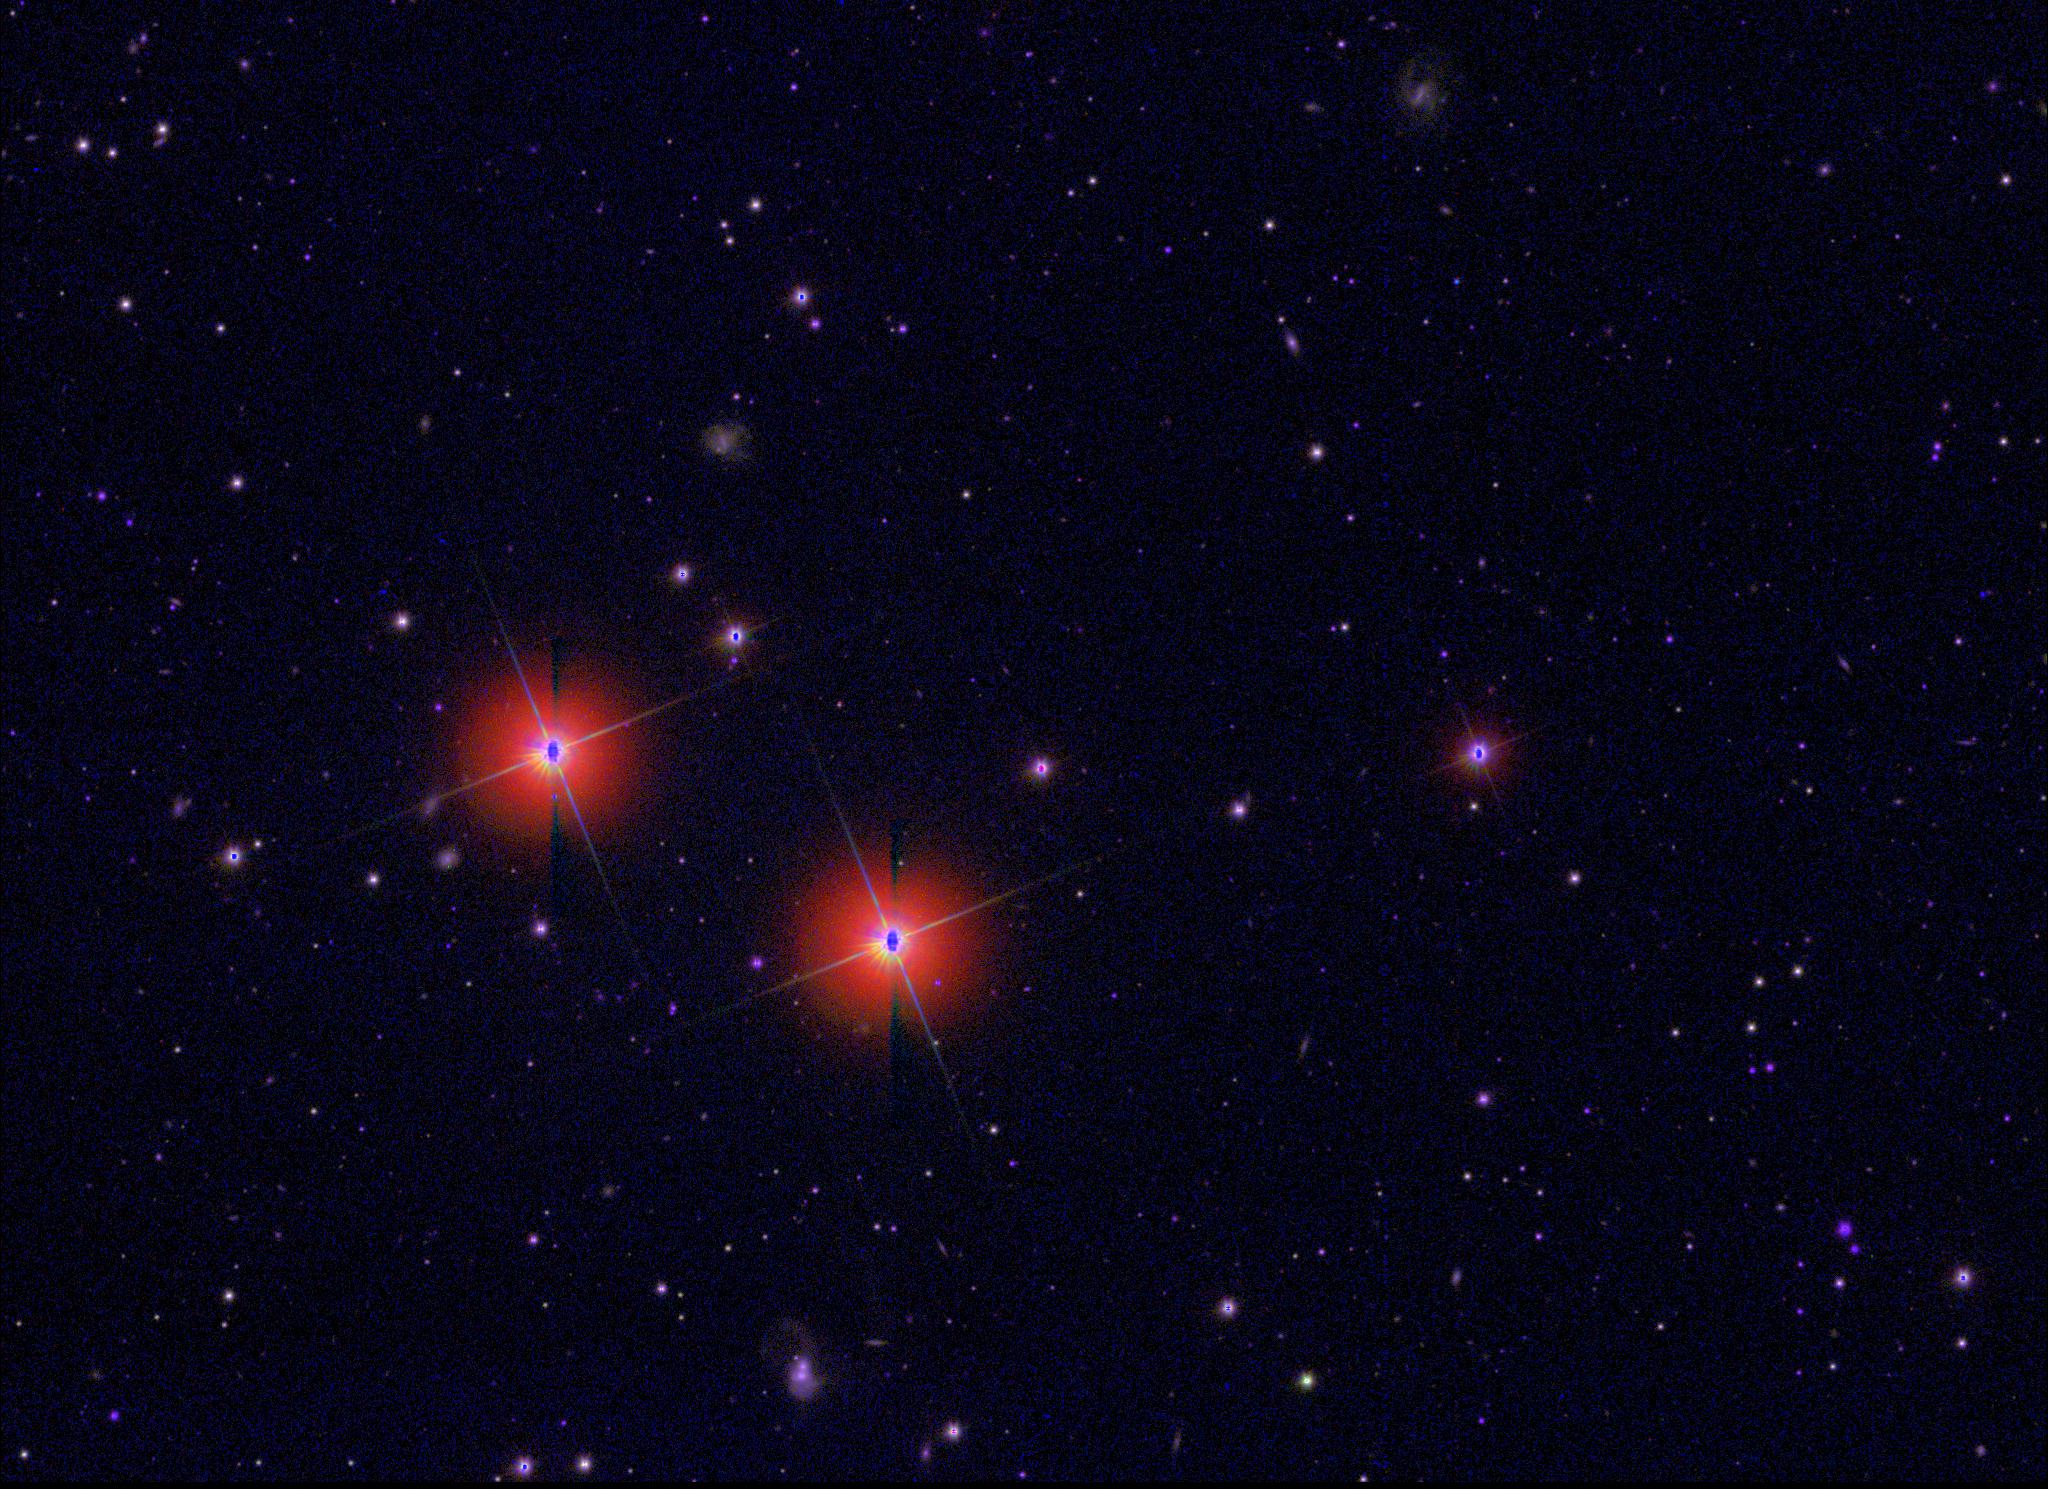L: (1976, 587, 1991, 601)
